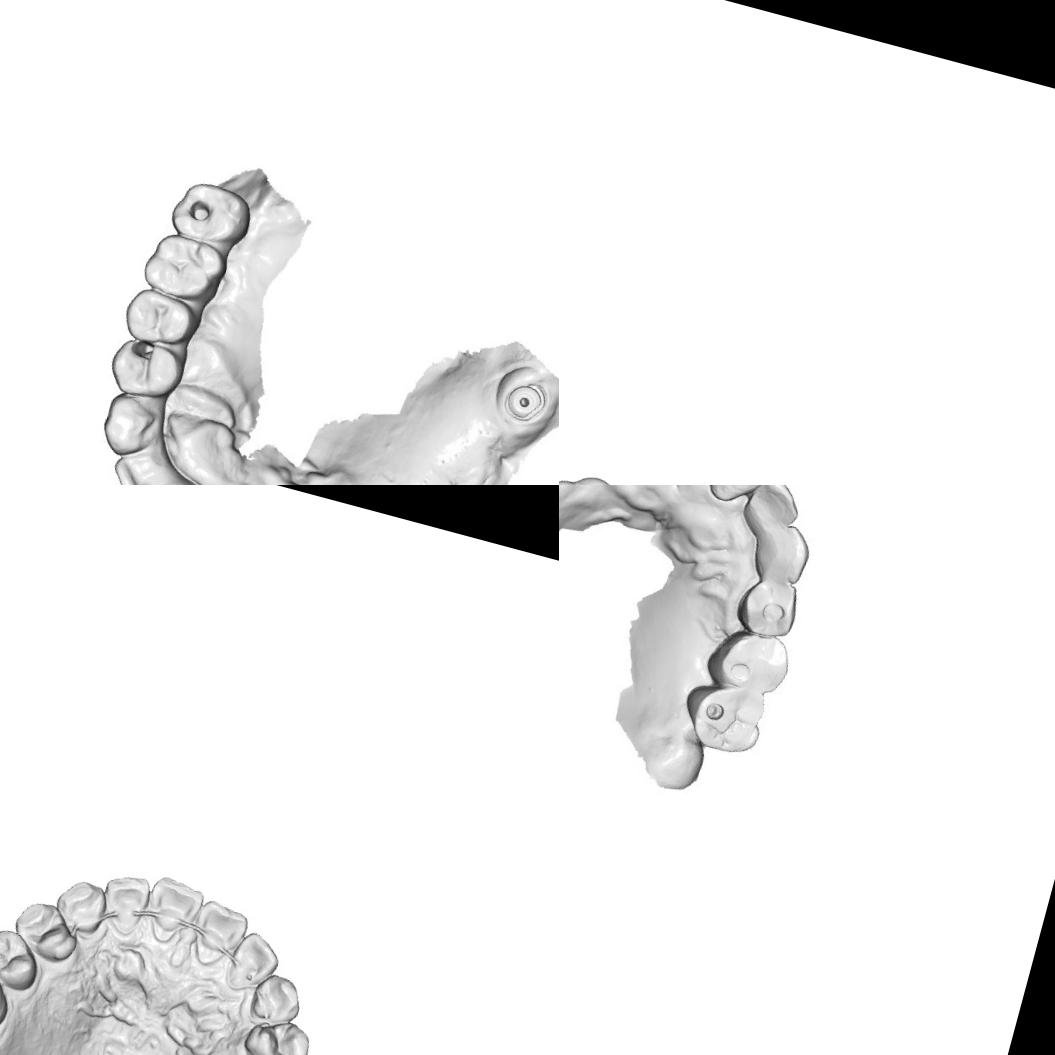canine: (94, 382, 174, 466), (746, 514, 817, 590), (242, 967, 308, 1032), (47, 872, 110, 940)
implant: (498, 375, 548, 424)
incisor: (136, 870, 210, 952), (185, 895, 253, 973), (220, 924, 286, 999), (92, 866, 156, 939), (737, 485, 808, 541), (105, 446, 172, 485), (699, 485, 782, 513)
molar: (698, 620, 799, 706), (676, 673, 773, 761), (137, 226, 230, 312), (165, 172, 257, 254), (0, 947, 20, 1049)
premolar: (103, 333, 190, 408), (118, 284, 204, 355), (5, 894, 86, 967), (729, 572, 805, 648), (237, 1009, 317, 1055), (0, 921, 49, 996)
